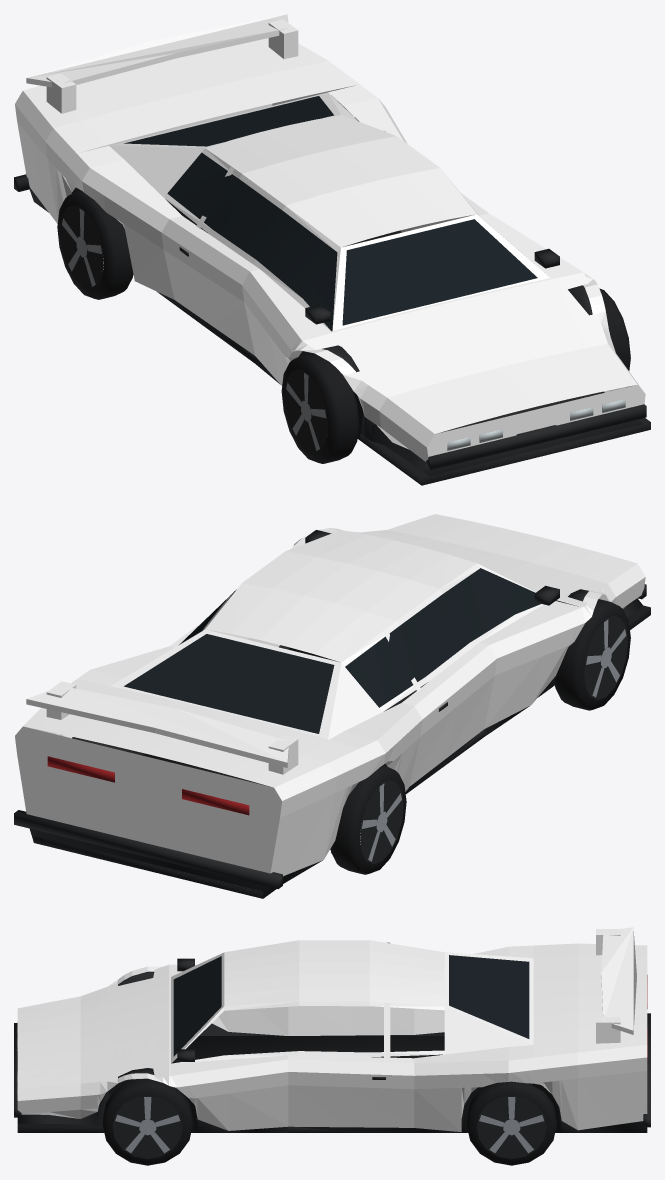
Rendered from vantra_incisivo.glb.
3 renders of one model, top to bottom at view 1: azimuth 30°, elevation 25°; view 2: azimuth 150°, elevation 25°; view 3: azimuth 270°, elevation 25°, orthographic. The views are drawn at different scales.
Visible parts, largest first — view 1: Body_Paint, Body_Details, Mount_FrontLeft_Wheel_Details, Mount_RearLeft_Wheel_Details, Mount_FrontRight_Wheel_Details; view 2: Body_Paint, Body_Details, Mount_RearLeft_Wheel_Details, Mount_FrontLeft_Wheel_Details; view 3: Body_Paint, Body_Details, Mount_FrontRight_Wheel_Details, Mount_RearRight_Wheel_Details.
Part boxes in pixels (left/top/right/bottom): Body_Paint: left=15, top=14, right=645, bottom=461; Body_Details: left=14, top=96, right=650, bottom=485; Mount_FrontLeft_Wheel_Details: left=281, top=353, right=359, bottom=463; Mount_RearLeft_Wheel_Details: left=57, top=190, right=133, bottom=299; Mount_FrontRight_Wheel_Details: left=599, top=288, right=630, bottom=370; Body_Paint: left=15, top=514, right=645, bottom=876; Body_Details: left=14, top=530, right=650, bottom=898; Mount_RearLeft_Wheel_Details: left=330, top=765, right=406, bottom=874; Mount_FrontLeft_Wheel_Details: left=554, top=599, right=630, bottom=710; Body_Paint: left=17, top=927, right=647, bottom=1131; Body_Details: left=14, top=955, right=650, bottom=1132; Mount_FrontRight_Wheel_Details: left=102, top=1078, right=192, bottom=1165; Mount_RearRight_Wheel_Details: left=466, top=1081, right=556, bottom=1165.
Bounding box in the file's own units: 2.08 × 1.13 × 4.66.
Materials: 2 (1 with a texture image).
